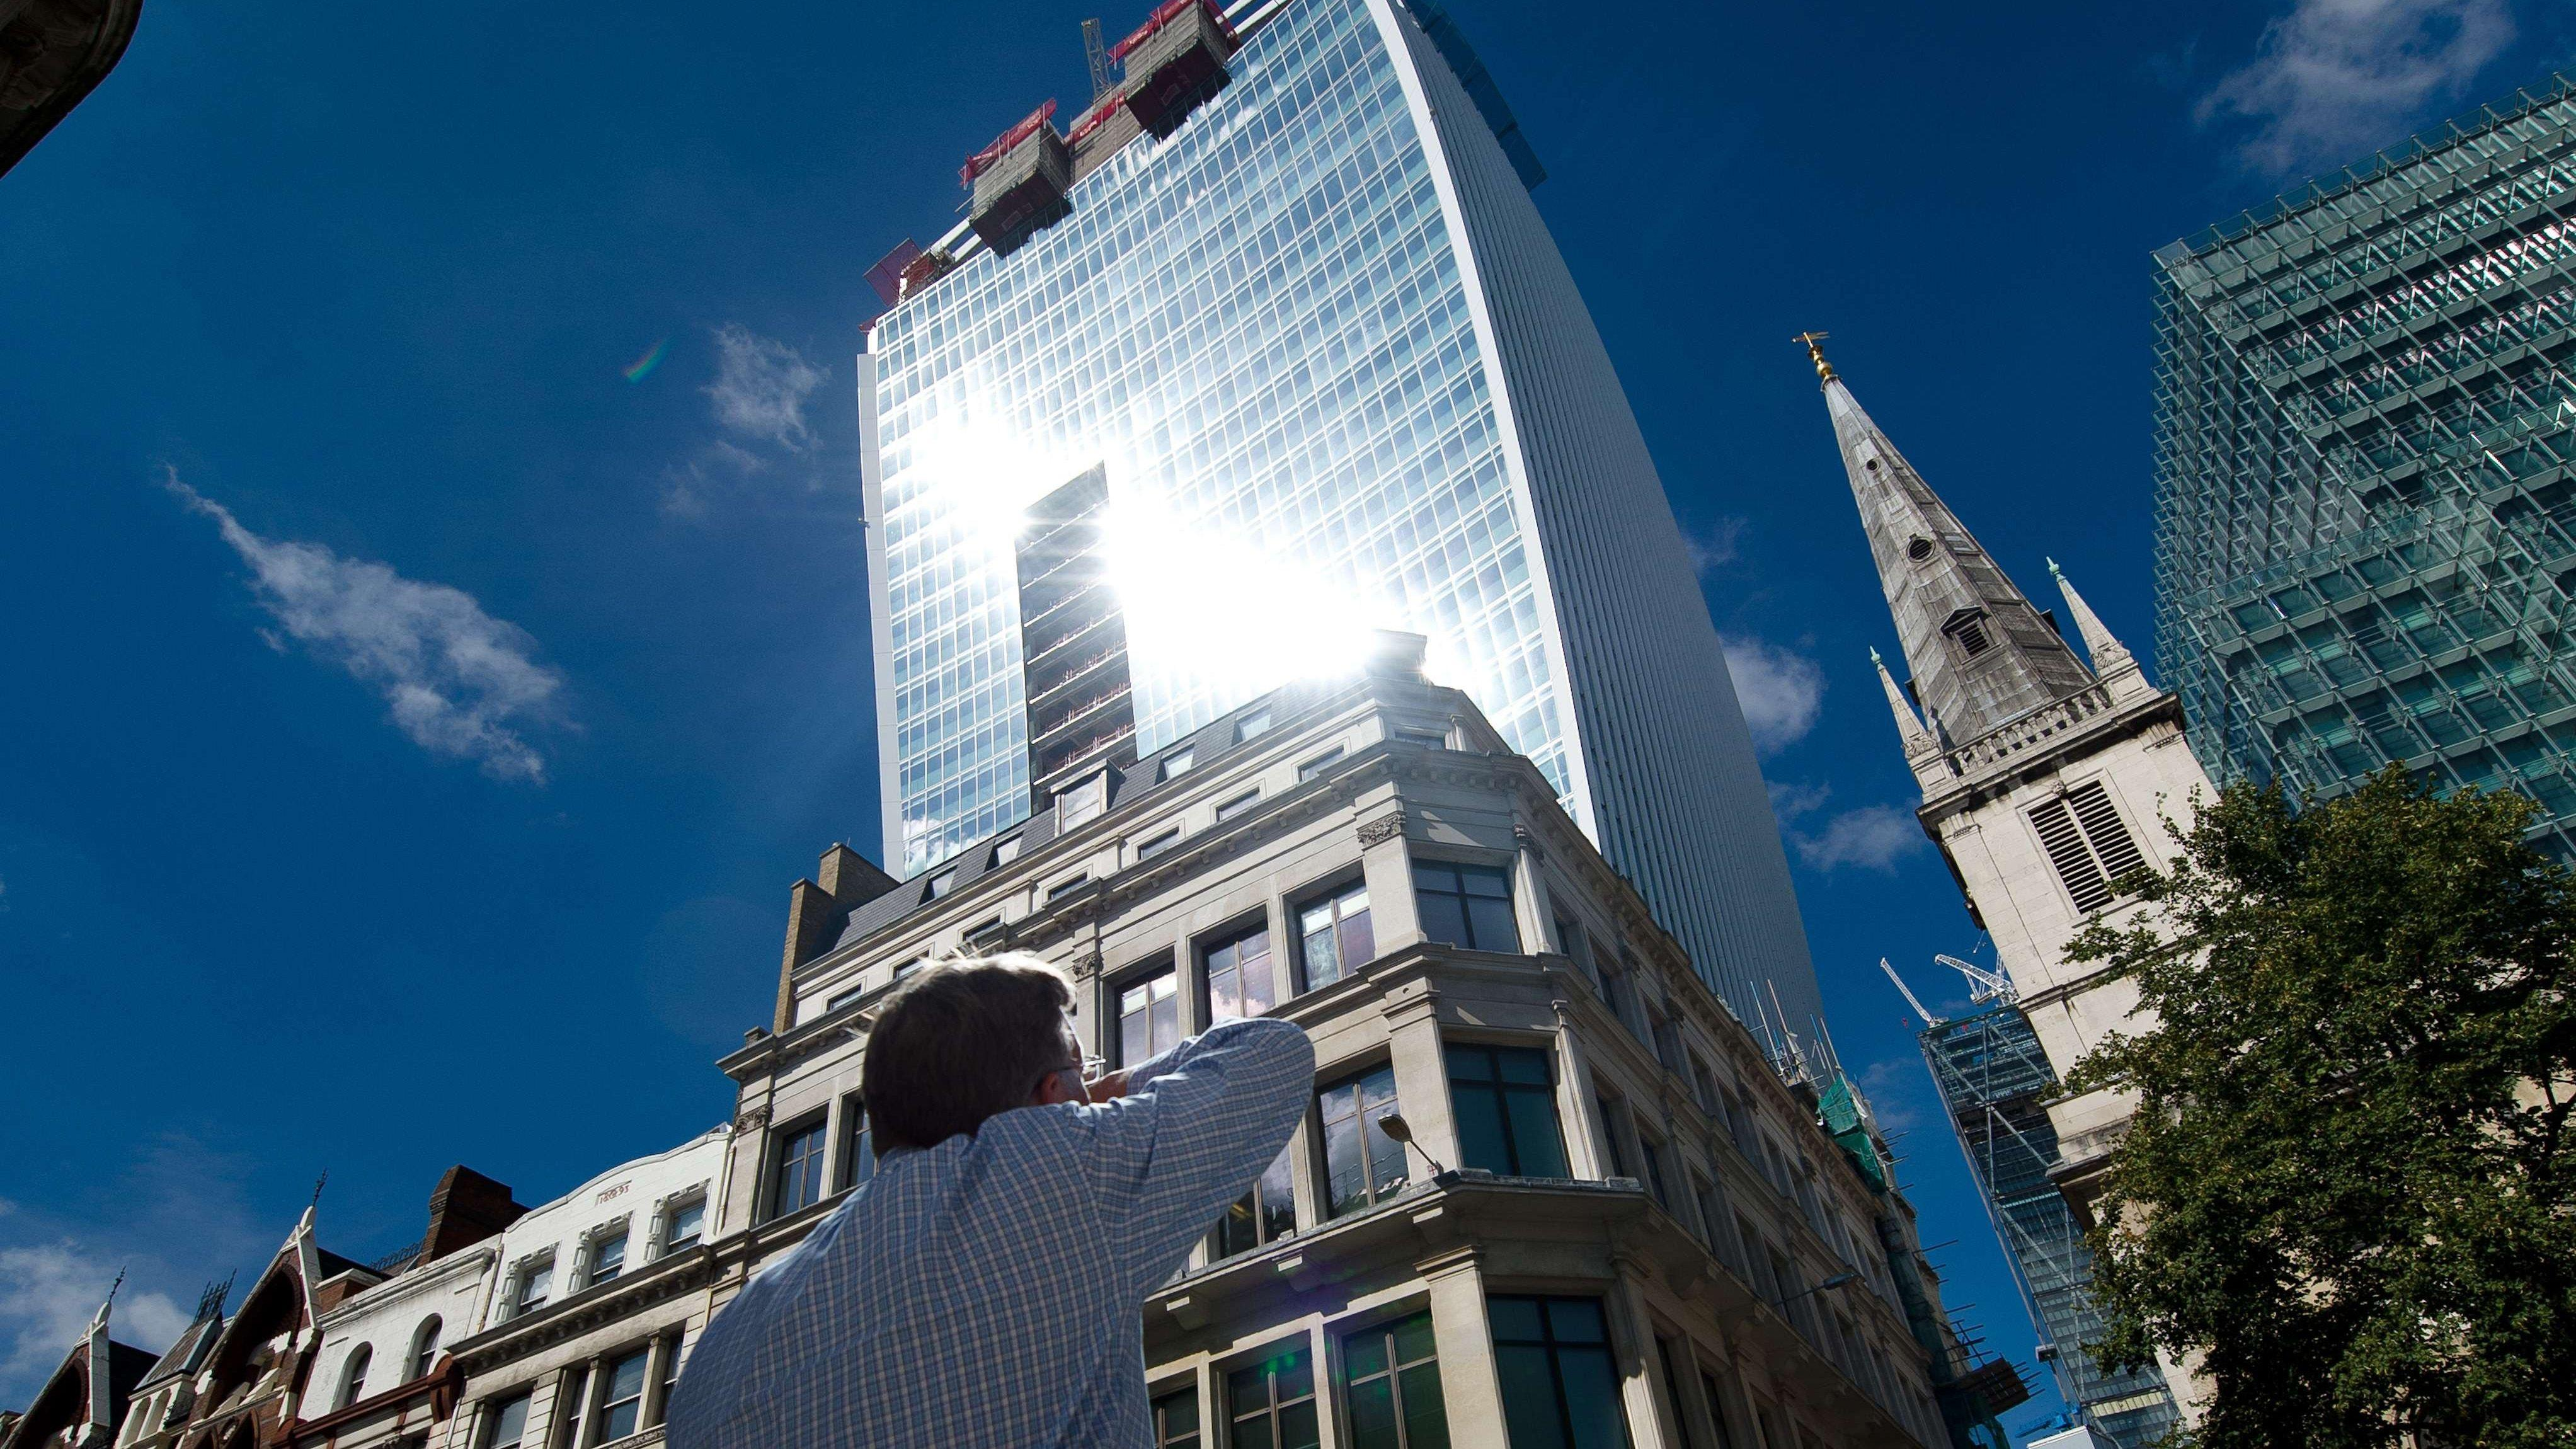Walkie talkie: (828, 5, 1753, 943)
